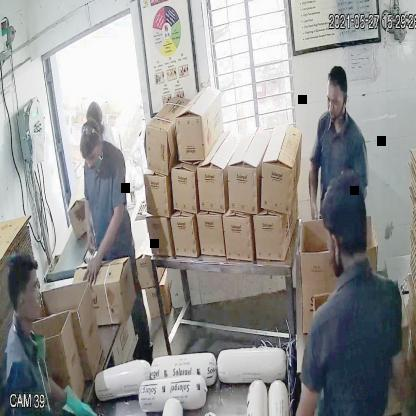no_goggles: (324, 92, 348, 112)
